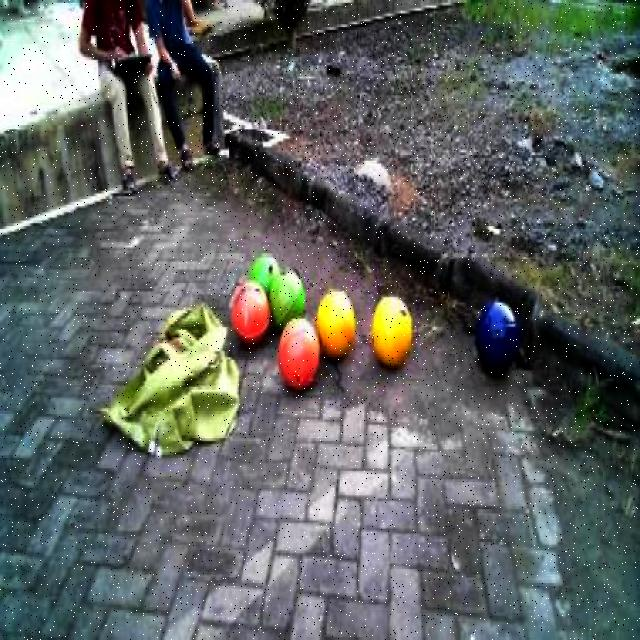buoy: (470, 294, 517, 379), (276, 316, 321, 390), (371, 287, 414, 364), (313, 282, 354, 358), (227, 278, 268, 352), (269, 262, 310, 334), (247, 245, 279, 297)
